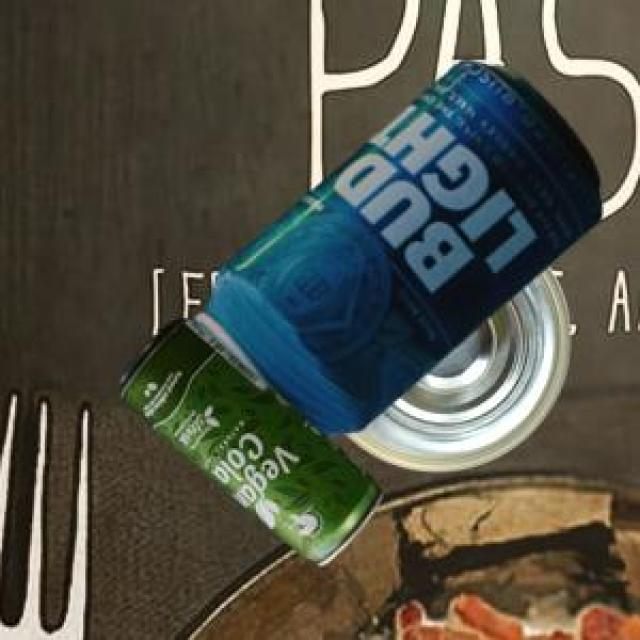logam: (193, 57, 598, 434), (118, 315, 379, 562), (342, 263, 566, 470)
